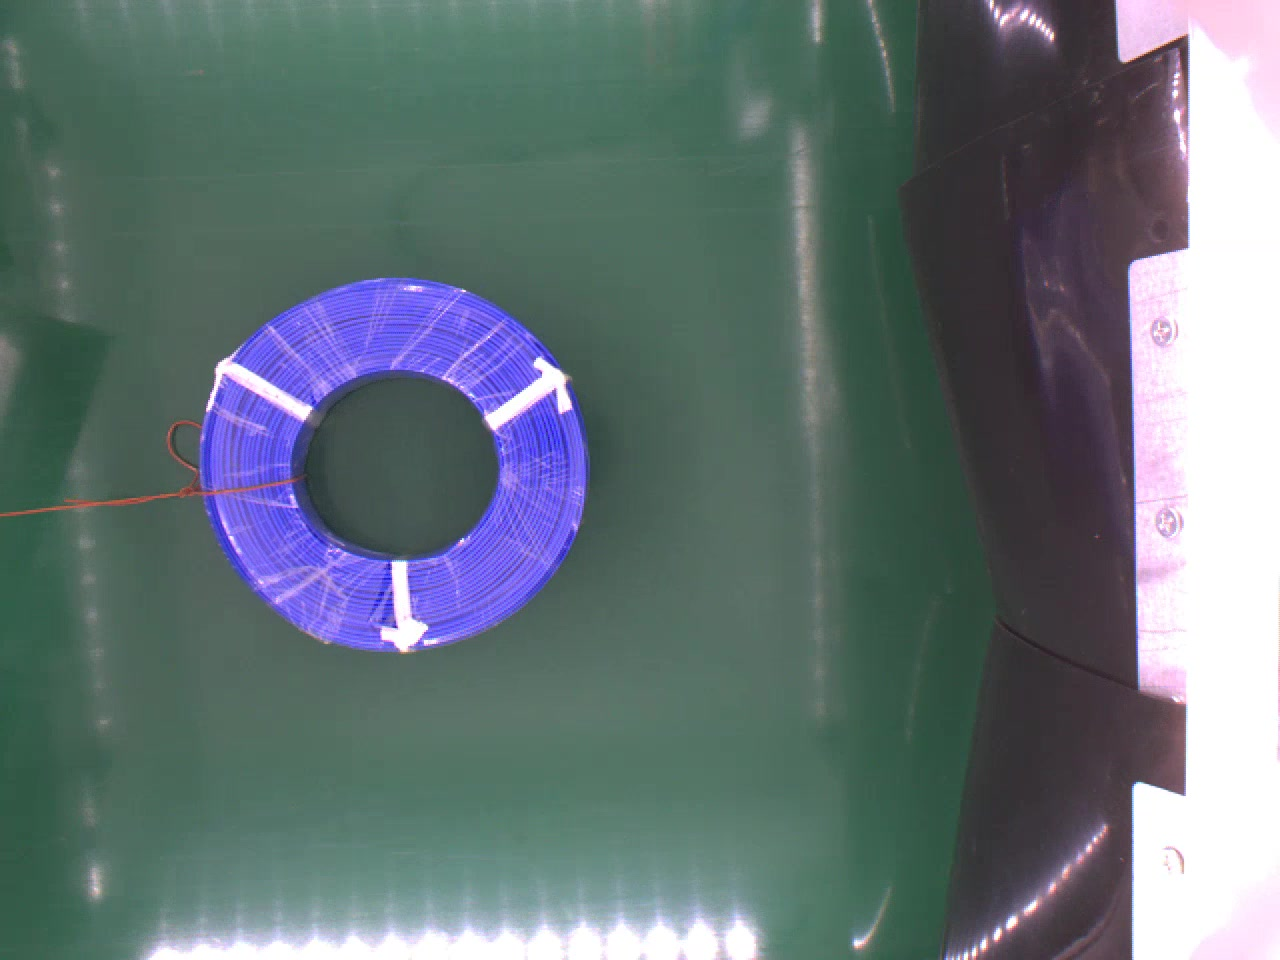blue: (197, 272, 592, 652)
